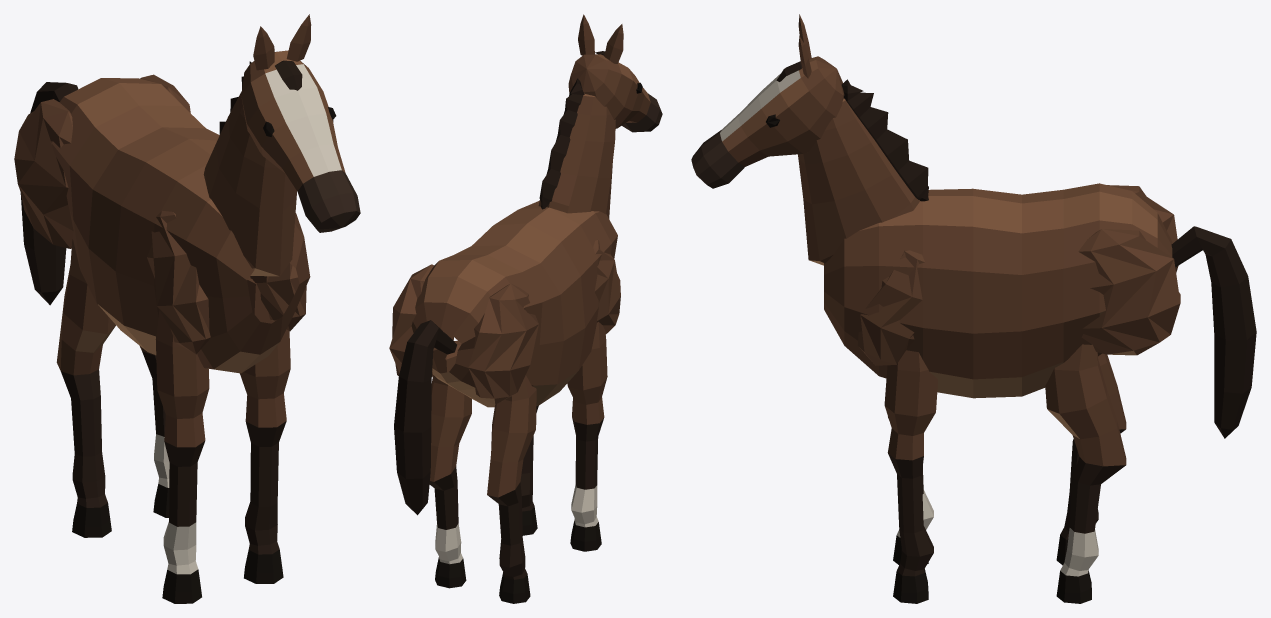
File: horse.glb
3 views of the same model, side by side, from view 1: azimuth 30°, elevation 25°; view 2: azimuth 150°, elevation 25°; view 3: azimuth 270°, elevation 25° (orthographic). The views are drawn at different scales.
Parts seen in each view (by area): view 1: horse_body, horse_head, horse_leg_FR, horse_neck, horse_leg_HR, horse_leg_FL, horse_tail, horse_leg_HL; view 2: horse_body, horse_neck, horse_leg_HR, horse_tail, horse_leg_HL, horse_leg_FR, horse_head, horse_leg_FL; view 3: horse_body, horse_neck, horse_leg_HL, horse_head, horse_leg_FL, horse_tail, horse_leg_HR.
Boxes of the visible parts, bbox=[...] form: horse_body: bbox=[14, 74, 310, 373]; horse_head: bbox=[241, 14, 360, 232]; horse_leg_FR: bbox=[155, 310, 209, 603]; horse_neck: bbox=[203, 61, 296, 276]; horse_leg_HR: bbox=[56, 239, 115, 537]; horse_leg_FL: bbox=[240, 276, 290, 583]; horse_tail: bbox=[20, 82, 78, 305]; horse_leg_HL: bbox=[140, 346, 169, 517]; horse_body: bbox=[389, 200, 620, 407]; horse_neck: bbox=[538, 78, 615, 218]; horse_leg_HR: bbox=[487, 375, 536, 603]; horse_tail: bbox=[394, 320, 456, 515]; horse_leg_HL: bbox=[429, 340, 471, 588]; horse_leg_FR: bbox=[567, 322, 607, 551]; horse_head: bbox=[568, 14, 662, 132]; horse_leg_FL: bbox=[520, 406, 538, 535]; horse_body: bbox=[824, 183, 1180, 398]; horse_neck: bbox=[798, 79, 928, 265]; horse_leg_HL: bbox=[1045, 344, 1126, 603]; horse_head: bbox=[691, 14, 844, 188]; horse_leg_FL: bbox=[884, 350, 937, 603]; horse_tail: bbox=[1171, 226, 1256, 438]; horse_leg_HR: bbox=[1056, 353, 1126, 565].
Bounding box in the file's own units: 0.4956 × 1.87 × 1.73.
